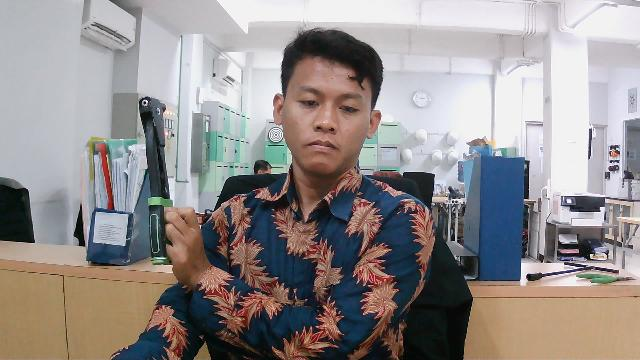tang_rivet: (121, 86, 209, 277)
